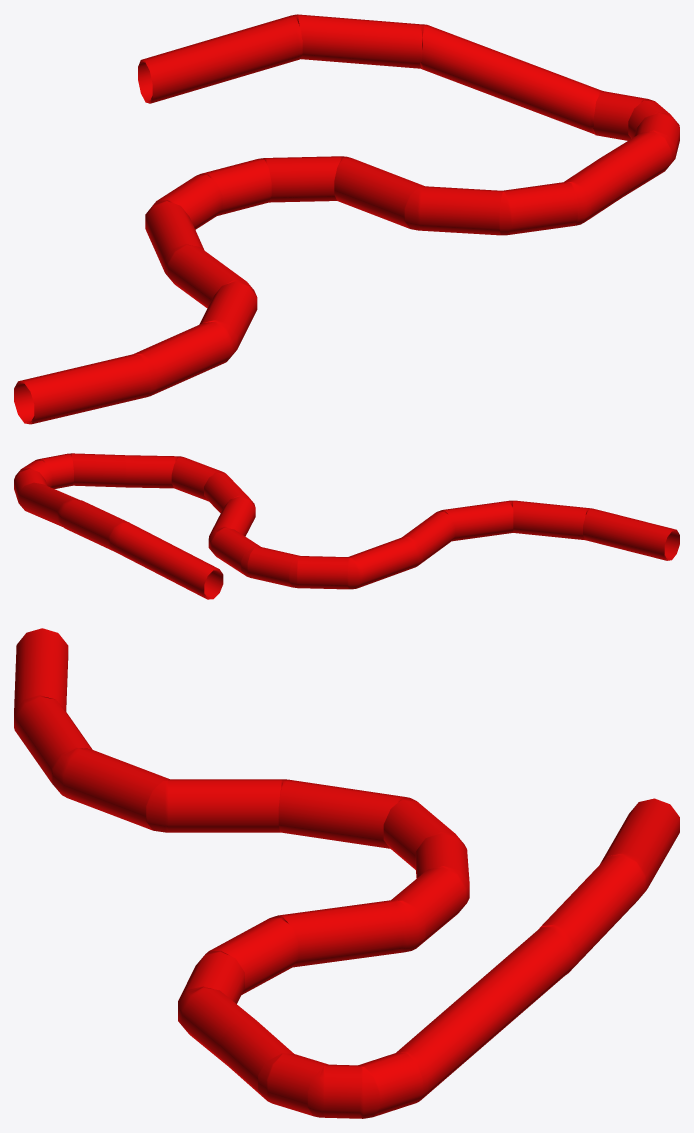
The model's file is BloodTubeCurved.fbx.
3 renders of one model, top to bottom at view 1: azimuth 30°, elevation 25°; view 2: azimuth 150°, elevation 25°; view 3: azimuth 270°, elevation 25°, orthographic. The views are drawn at different scales.
Visible parts, largest first — view 1: defaultBrush3Main, defaultBrush2Main; view 2: defaultBrush3Main, defaultBrush2Main; view 3: defaultBrush3Main.
Part boxes in pixels (x1,y1,x2,y2): defaultBrush3Main: (14,14,679,424); defaultBrush2Main: (14,60,152,422); defaultBrush3Main: (14,453,679,599); defaultBrush2Main: (203,530,679,598); defaultBrush3Main: (14,628,679,1118).
Size of the model in its own units: 26.5 by 3.4 by 16.56.
